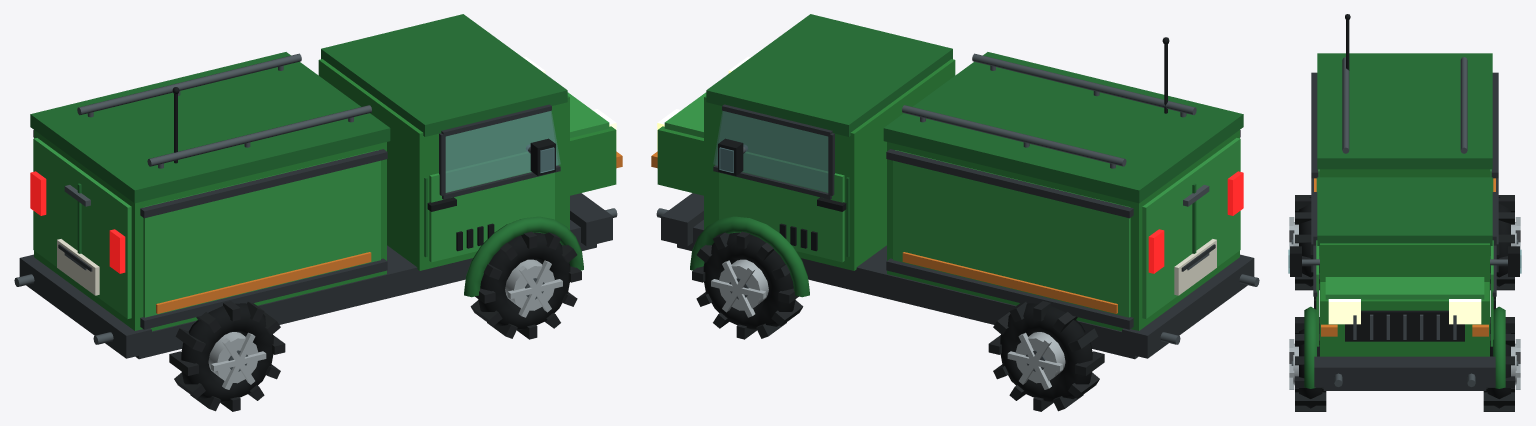
Rendered from asset.glb.
3 views of the same model, side by side, from view 1: azimuth 30°, elevation 25°; view 2: azimuth 150°, elevation 25°; view 3: azimuth 270°, elevation 25° (orthographic). The views are drawn at different scales.
Parts seen in each view (by area): view 1: Cargo Roof, Cargo Side Panel 1, Cab Roof, Cab Body, Rear Wall Panel, Cab Door 1, Main Chassis, Cargo Body, Cab Side Window 1, Side Window 1, Rear Bumper, Rear Wheel 1 Tire (+18 smaller); view 2: Cargo Roof, Cargo Side Panel -1, Cab Roof, Cab Body, Rear Wall Panel, Cab Door -1, Main Chassis, Cargo Body, Cab Side Window -1, Side Window -1, Rear Bumper, Rear Wheel -1 Tire (+18 smaller); view 3: Cargo Roof, Cab Roof, Cab Body, Front Bumper, Front Hood Top, Front Hood, Front Grille, Cargo Body, Wheel Arch -1, Wheel Arch 1, Headlight -1, Headlight 1 (+17 smaller).
Boxes of the visible parts, <box> form: Cargo Roof: <box>30,52,390,203</box>; Cargo Side Panel 1: <box>143,150,380,317</box>; Cab Roof: <box>321,14,567,136</box>; Cab Body: <box>318,59,569,270</box>; Rear Wall Panel: <box>33,138,131,318</box>; Cab Door 1: <box>429,152,554,262</box>; Main Chassis: <box>135,220,596,359</box>; Cargo Body: <box>34,130,386,331</box>; Cab Side Window 1: <box>445,111,560,191</box>; Side Window 1: <box>446,111,558,192</box>; Rear Bumper: <box>19,254,151,358</box>; Rear Wheel 1 Tire: <box>181,303,273,402</box>; Cargo Roof: <box>883,52,1243,203</box>; Cargo Side Panel -1: <box>893,150,1130,317</box>; Cab Roof: <box>706,14,952,136</box>; Cab Body: <box>704,59,955,270</box>; Rear Wall Panel: <box>1142,138,1240,318</box>; Cab Door -1: <box>719,152,844,262</box>; Main Chassis: <box>677,220,1138,359</box>; Cargo Body: <box>887,130,1239,331</box>; Cab Side Window -1: <box>713,111,828,191</box>; Side Window -1: <box>715,111,827,192</box>; Rear Bumper: <box>1122,254,1254,358</box>; Rear Wheel -1 Tire: <box>1000,303,1092,402</box>; Cargo Roof: <box>1317,53,1492,169</box>; Cab Roof: <box>1317,177,1492,245</box>; Cab Body: <box>1320,243,1489,356</box>; Front Bumper: <box>1314,356,1495,387</box>; Front Hood Top: <box>1325,277,1484,299</box>; Front Hood: <box>1320,282,1489,347</box>; Front Grille: <box>1345,310,1464,341</box>; Cargo Body: <box>1320,169,1489,177</box>; Wheel Arch -1: <box>1493,306,1505,388</box>; Wheel Arch 1: <box>1304,306,1316,388</box>; Headlight -1: <box>1449,299,1481,324</box>; Headlight 1: <box>1328,299,1360,324</box>.
Size of the model in its own units: 5.46 by 3.1 by 2.52.
